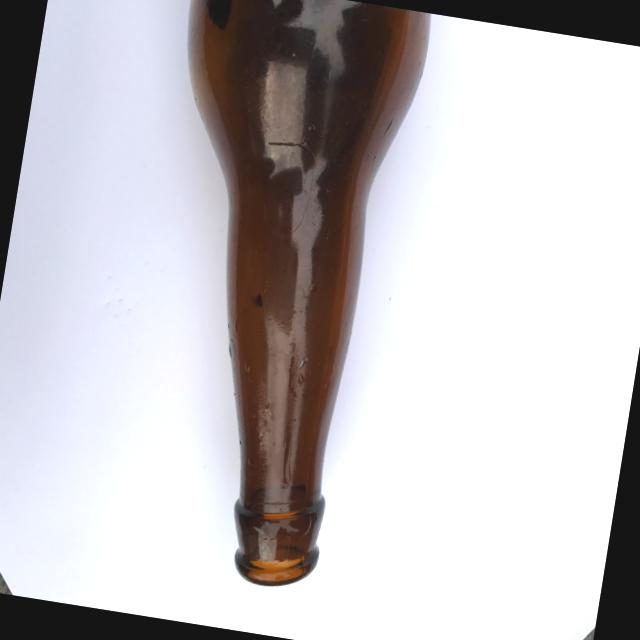Glass: (90, 0, 446, 607)
